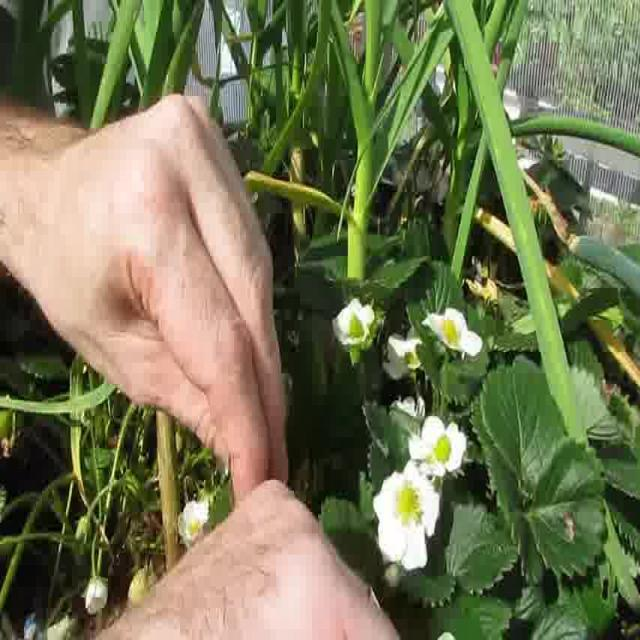Fruta sana: (348, 316, 364, 341)
